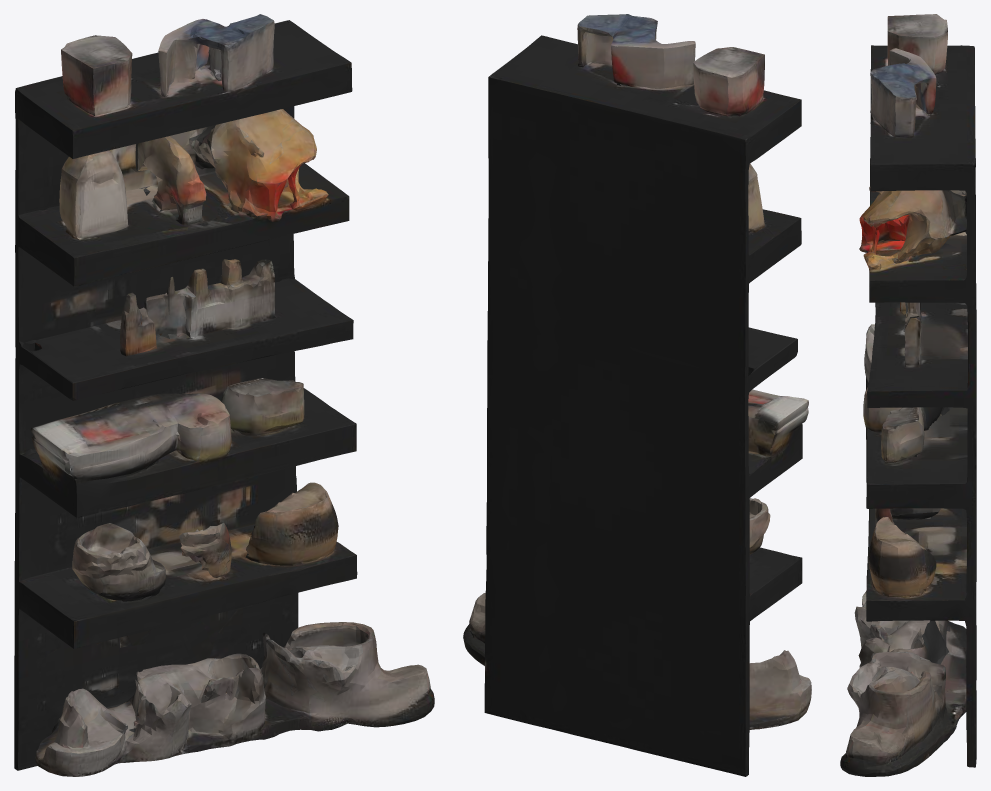
Rendered from shelf.glb.
The picture shows the model from 3 angles, left to right: view 1: azimuth 30°, elevation 25°; view 2: azimuth 150°, elevation 25°; view 3: azimuth 270°, elevation 25°; orthographic projection. The views are drawn at different scales.
Parts seen in each view (by area): view 1: mesh; view 2: mesh; view 3: mesh.
Boxes of the visible parts, x1=… form: mesh: x1=14, y1=14, x2=434, y2=776; mesh: x1=463, y1=14, x2=811, y2=776; mesh: x1=840, y1=14, x2=976, y2=776.
Size of the model in its own units: 0.5311 by 1 by 0.1914.
1 material, 1 textured.
